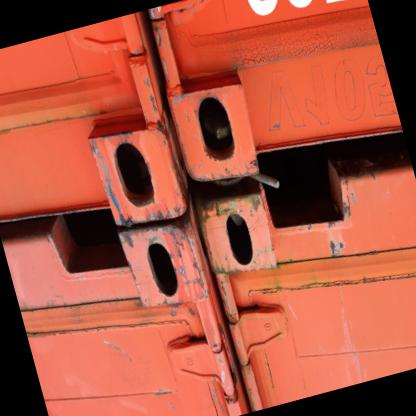CornerCasting: (82, 104, 195, 236), (159, 66, 260, 194), (113, 204, 216, 318), (192, 183, 283, 288)
